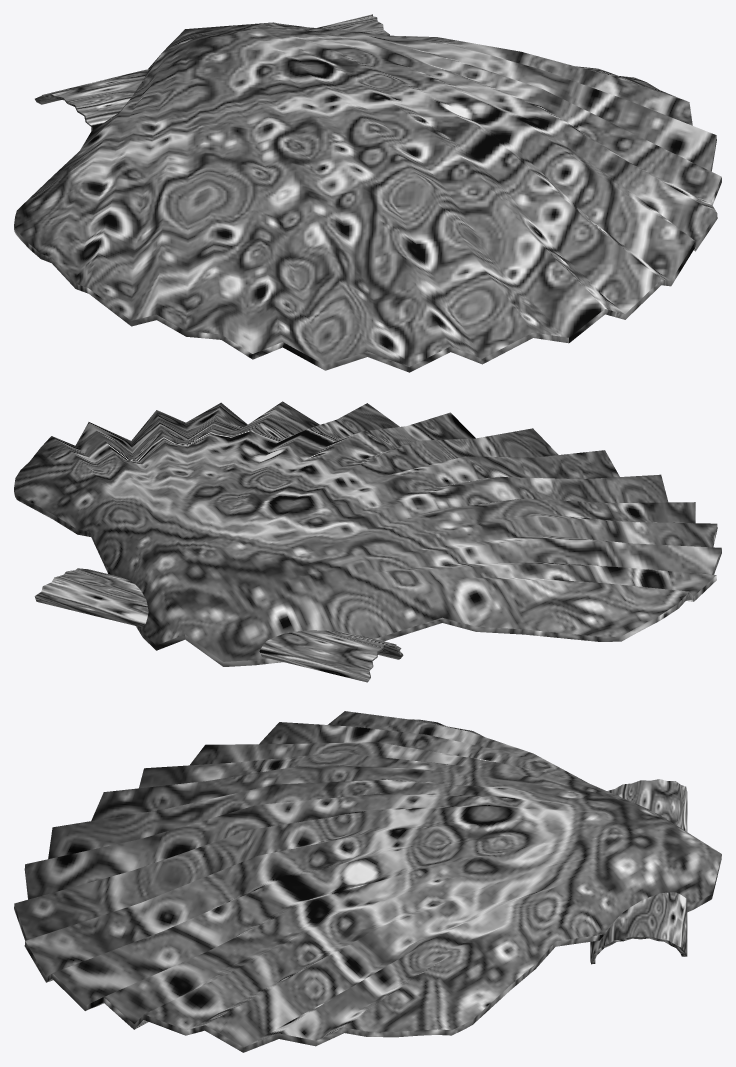
Rendered from M_Shell.fbx.
The picture shows the model from 3 angles, top to bottom: view 1: azimuth 30°, elevation 25°; view 2: azimuth 150°, elevation 25°; view 3: azimuth 270°, elevation 25°; orthographic projection.
Visible parts, largest first — view 1: shell, Cylinder; view 2: shell, Cylinder; view 3: shell, Cylinder.
Boxes of the visible parts, x1,y1,x2,y2 form: shell: (14,22,721,372); Cylinder: (35,14,389,131); shell: (14,401,721,666); Cylinder: (34,568,403,682); shell: (14,711,721,1052); Cylinder: (590,779,687,964).
Size of the model in its own units: 34.51 by 6.31 by 32.62.
